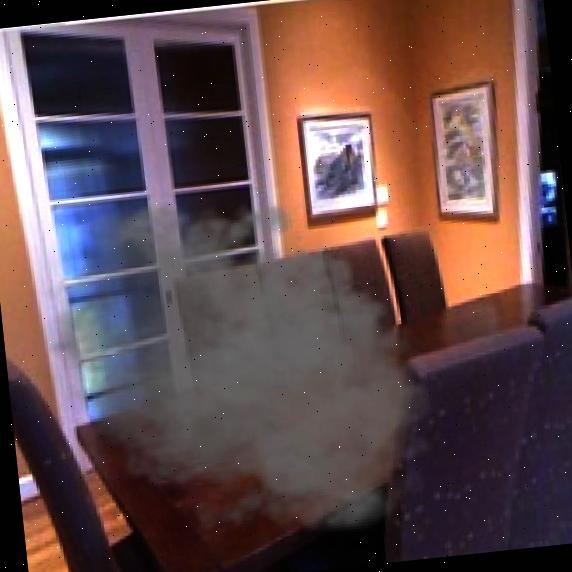smoke: (13, 163, 457, 569)
